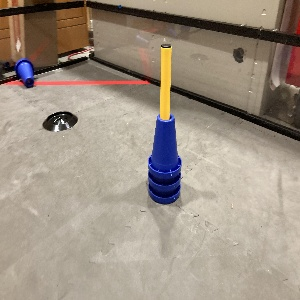Blue_3: (147, 112, 180, 203)
